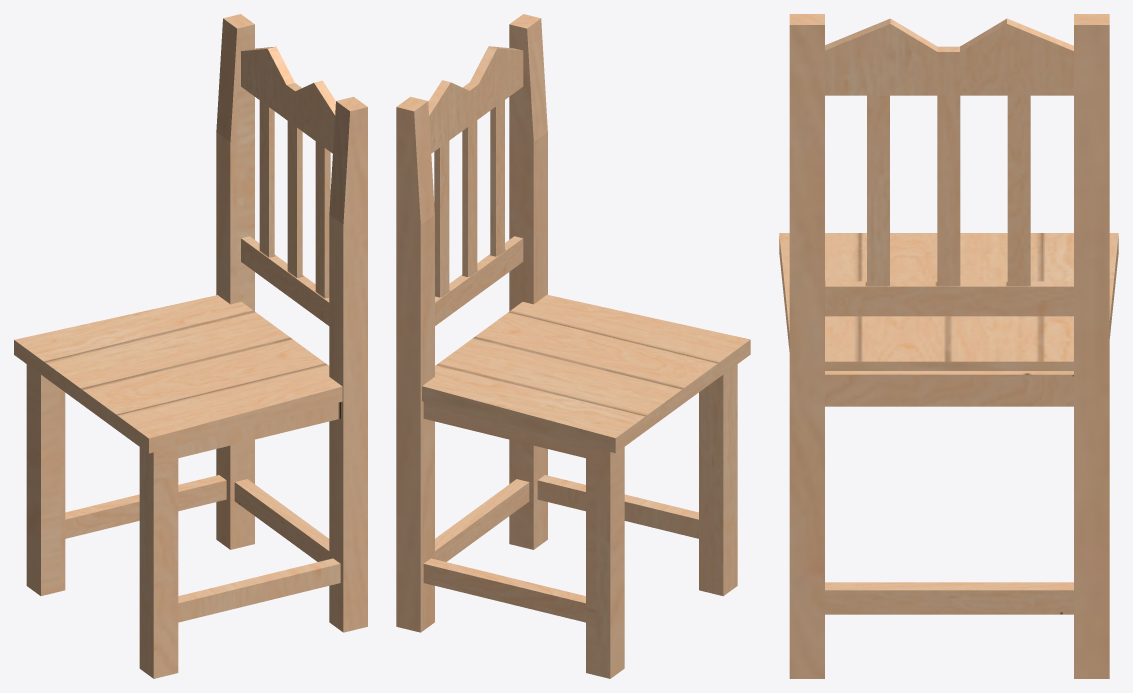
File: Chair_03-col.glb
The picture shows the model from 3 angles, left to right: view 1: azimuth 30°, elevation 25°; view 2: azimuth 150°, elevation 25°; view 3: azimuth 270°, elevation 25°; orthographic projection. The views are drawn at different scales.
Visible parts, largest first — view 1: Chair_03-col; view 2: Chair_03-col; view 3: Chair_03-col.
Boxes of the visible parts, x1=… form: Chair_03-col: x1=14, y1=14, x2=367, y2=678; Chair_03-col: x1=396, y1=14, x2=750, y2=678; Chair_03-col: x1=779, y1=14, x2=1118, y2=678.
Bounding box in the file's own units: 0.5127 × 1.14 × 0.537.
Materials: 1 (1 with a texture image).
